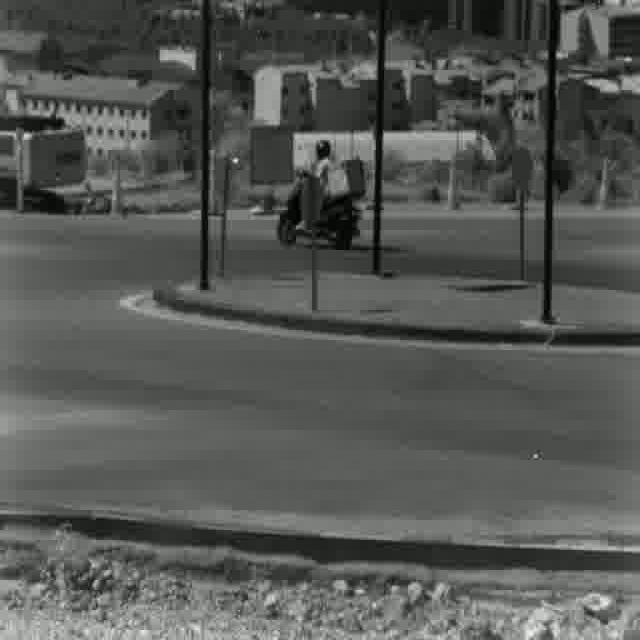Motorcycle: (277, 138, 364, 254)
